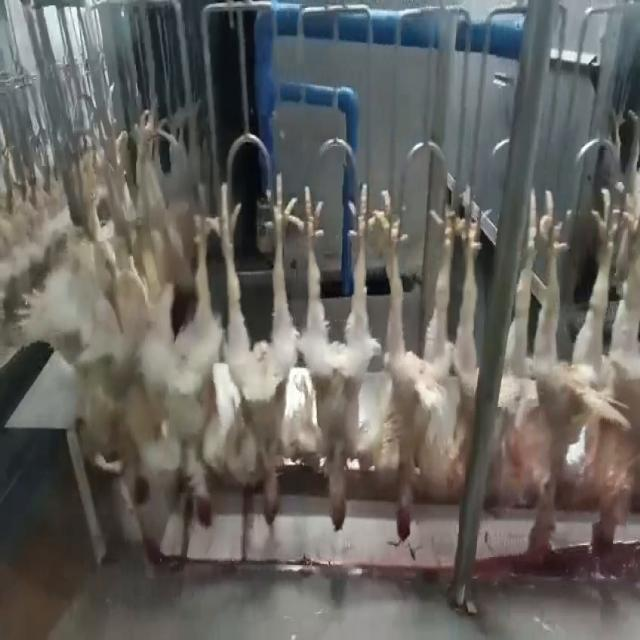chicken: (496, 194, 592, 577), (122, 169, 216, 536), (212, 167, 295, 538), (296, 171, 376, 537), (378, 191, 459, 545), (579, 201, 639, 554), (447, 183, 494, 488)
